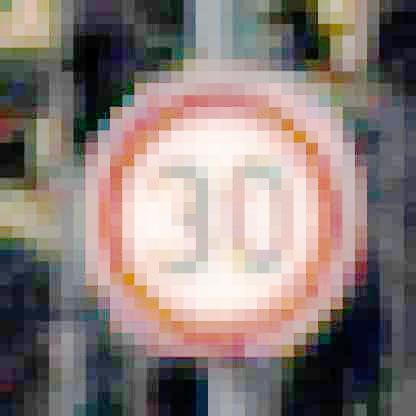Speed Limit -30-: (82, 74, 361, 361)
